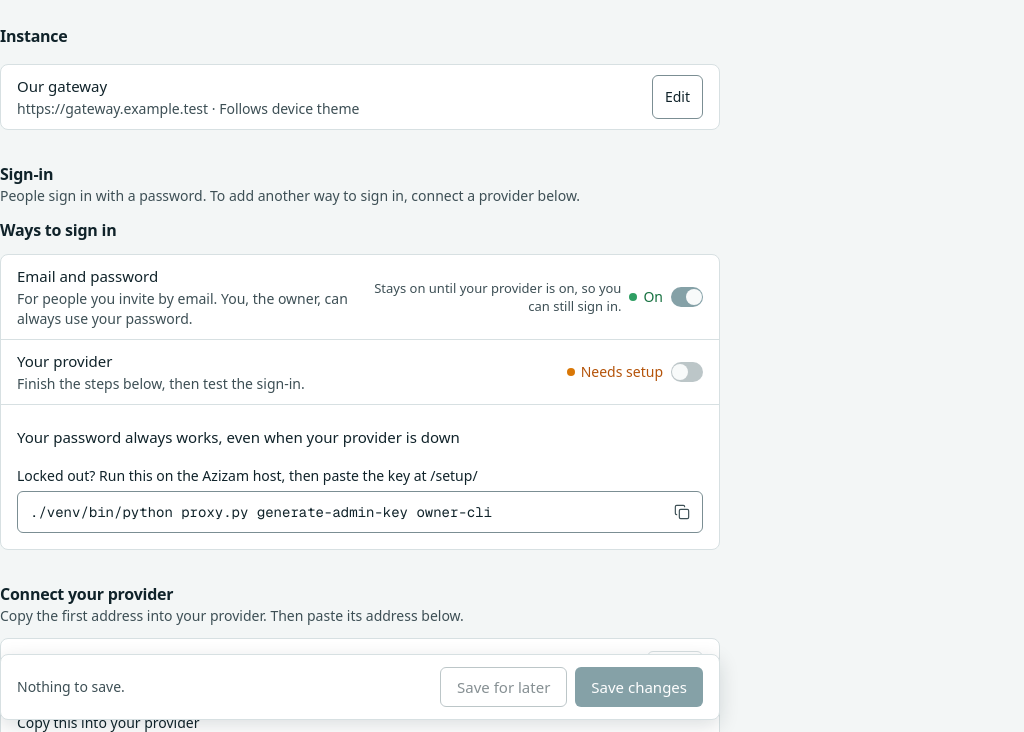
Test: settings page states › shows the first-run sign-in and no extensions (empty)
This screenshot has width=1024, height=732.
Click the button with aria-label "Edit Instance": (677, 97) [652, 75, 703, 119]
(page scrolled)
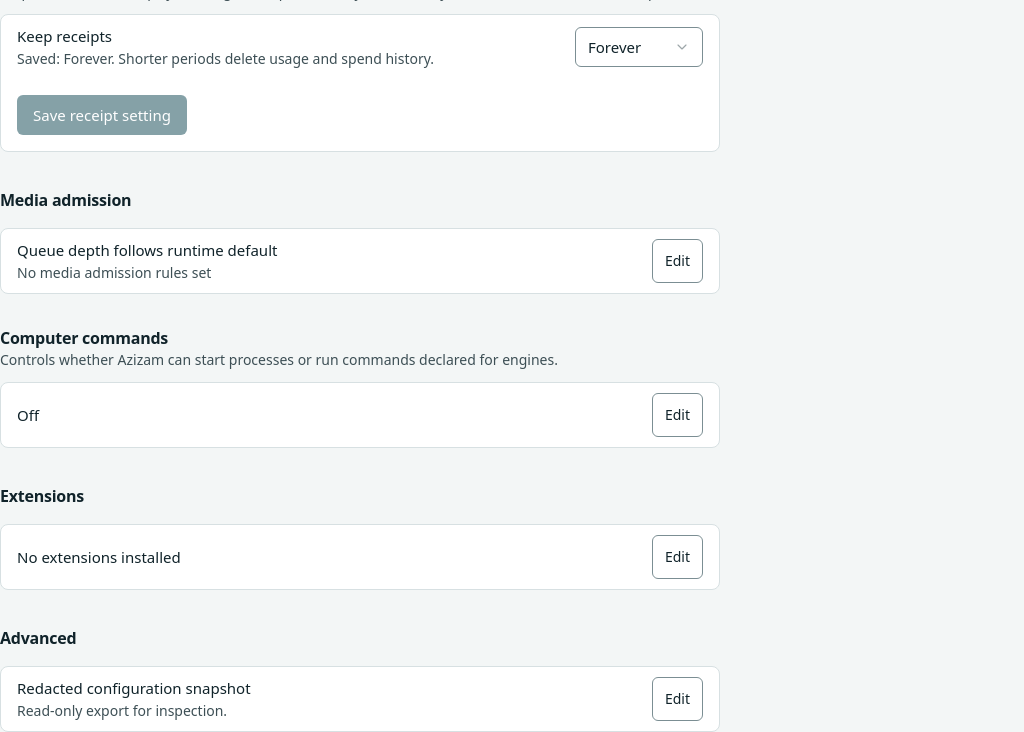
Click the button "Edit" in the row of "No extensions installed": (677, 557) [652, 535, 703, 579]
(page scrolled)
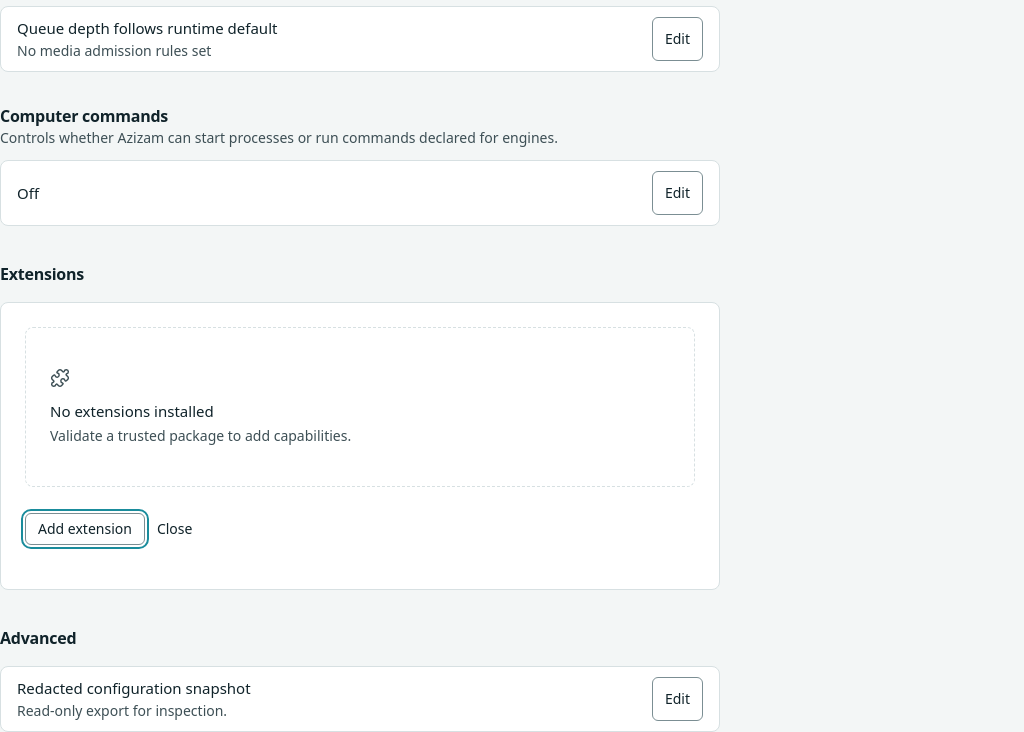
Expected: the text "No extensions installed" is shown, [50, 401, 214, 421]
Click the button "Edit" in the row of "Redacted configuration snapshot": (677, 699) [652, 677, 703, 721]
(page scrolled)
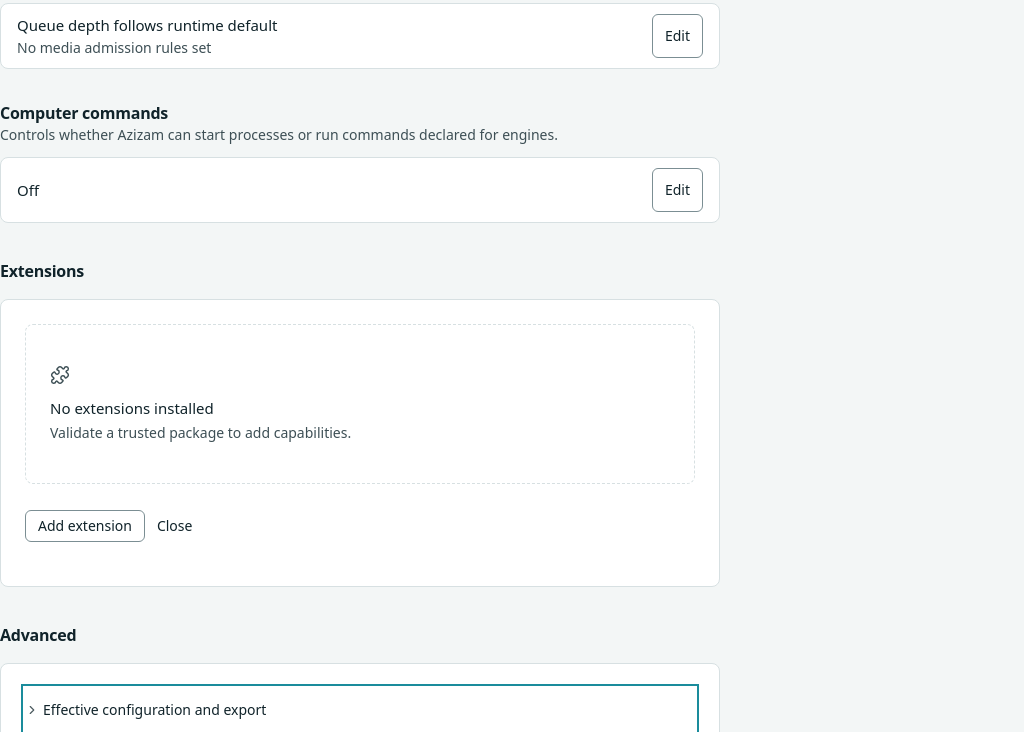
Click the heading "Effective configuration and export": (155, 710) [43, 700, 266, 719]
(page scrolled)
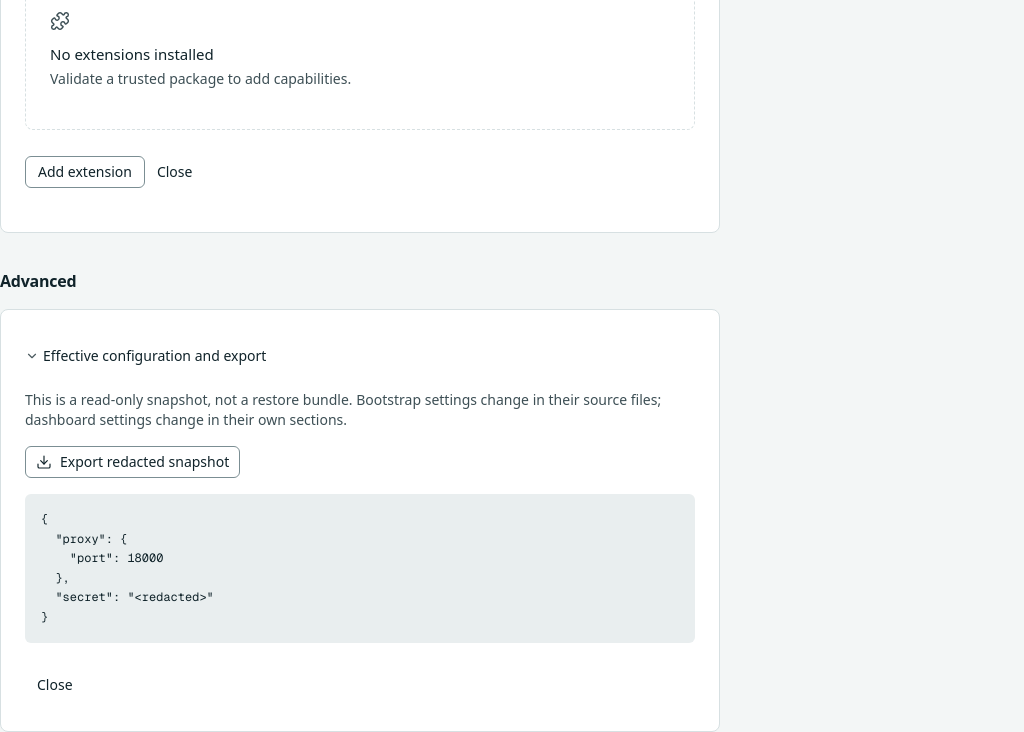
Expected: the link "Export redacted snapshot" is shown, [25, 446, 240, 478]
